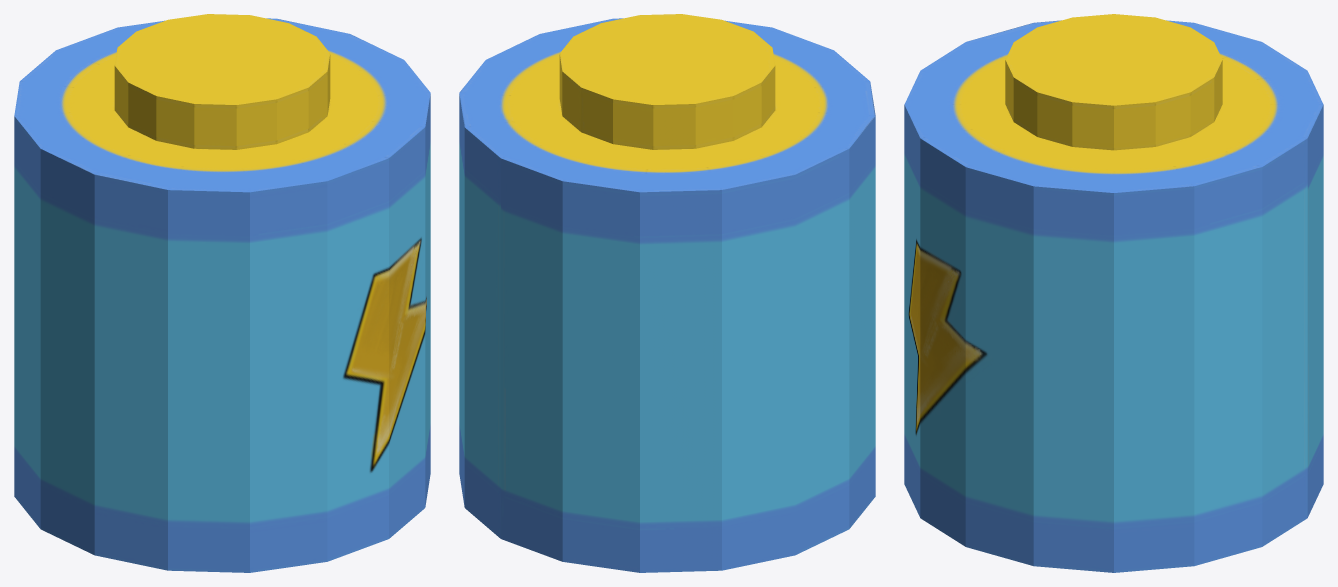
File: battery.glb
The picture shows the model from 3 angles, left to right: view 1: azimuth 30°, elevation 25°; view 2: azimuth 150°, elevation 25°; view 3: azimuth 270°, elevation 25°; orthographic projection.
Visible parts, largest first — view 1: Cylinder; view 2: Cylinder; view 3: Cylinder.
Boxes of the visible parts, bbox=[...] form: Cylinder: bbox=[14, 14, 430, 572]; Cylinder: bbox=[459, 14, 875, 572]; Cylinder: bbox=[904, 14, 1323, 572].
Bounding box in the file's own units: 10 × 11.18 × 10.
Materials: 1 (1 with a texture image).
